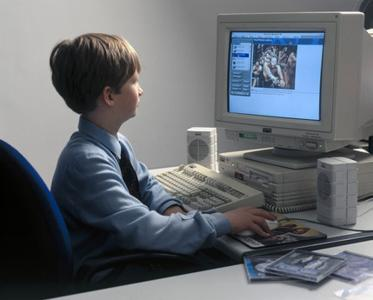person: (50, 34, 282, 291)
